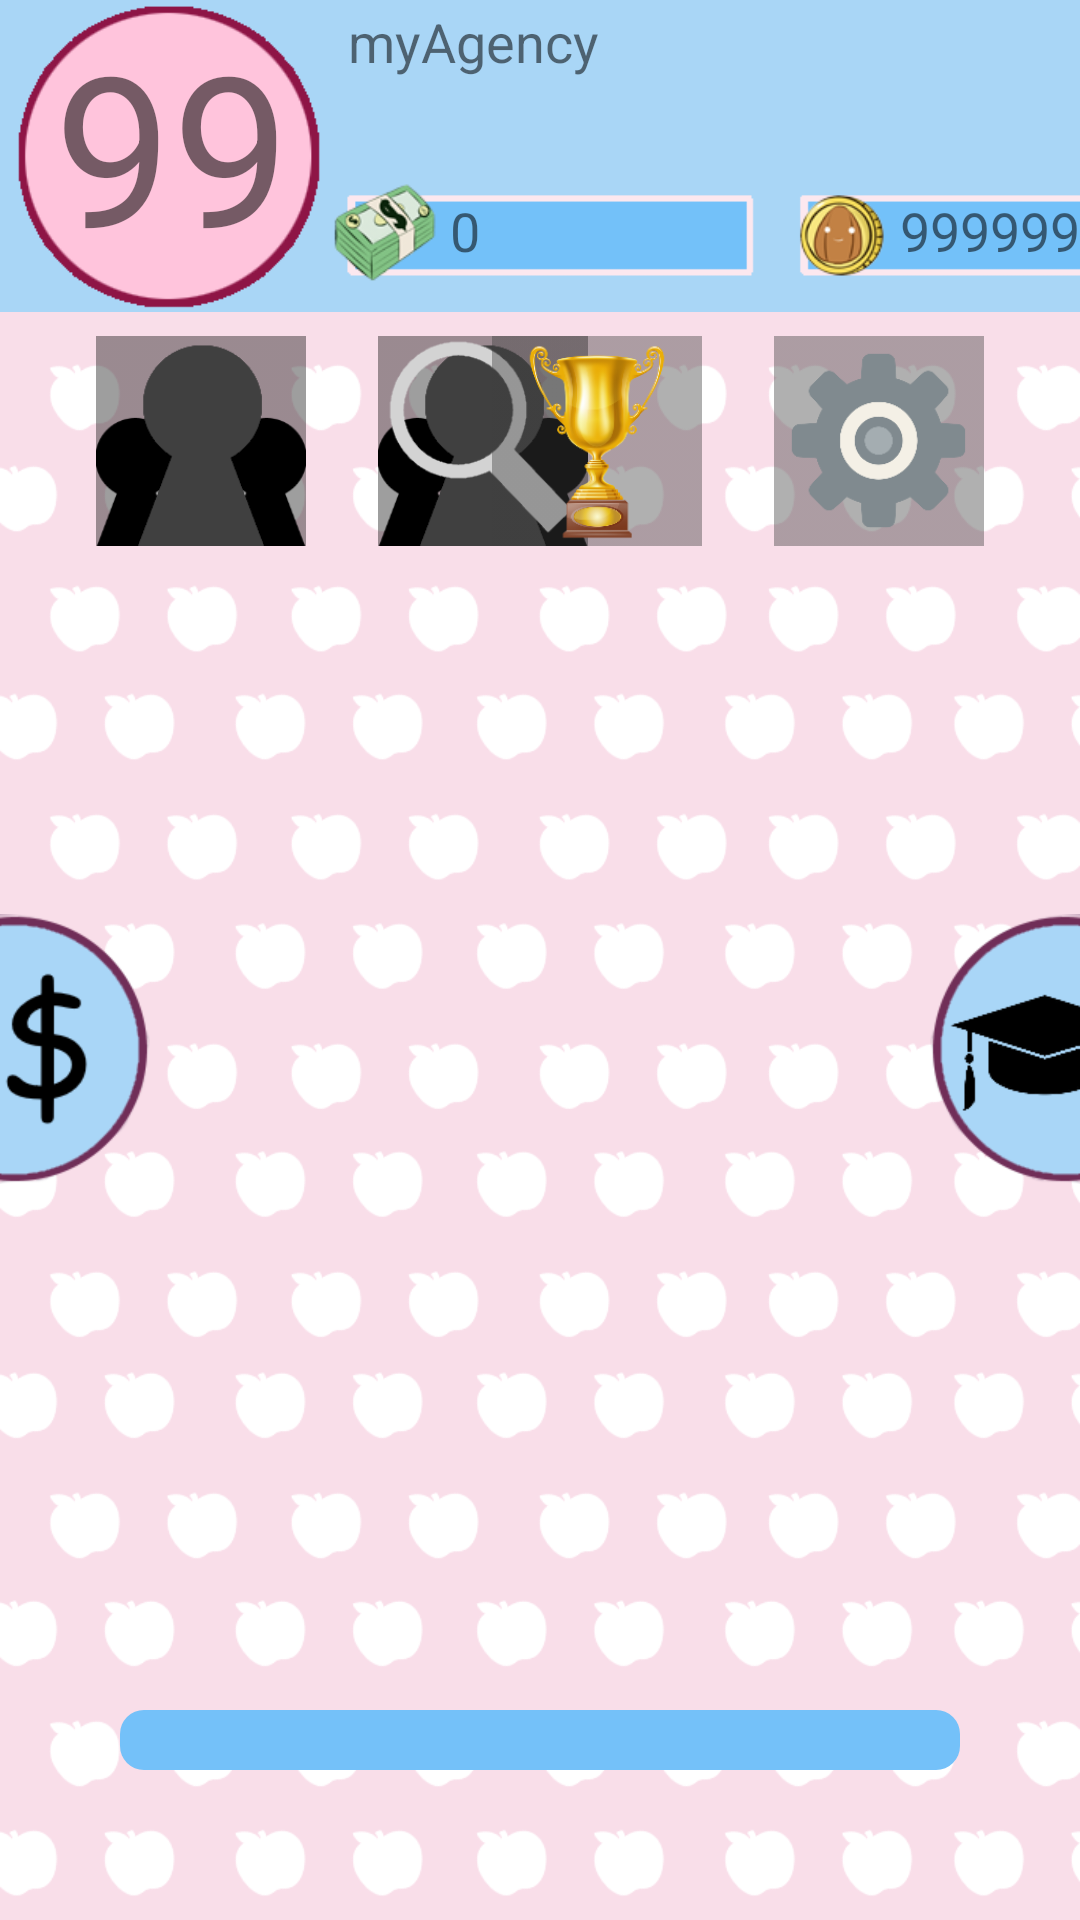

Where icons sit on this 1080w x 1920h app screen, as (x1, y1, x2, y2):
Achievements: (492, 336, 702, 546)
Idol Management: (96, 336, 306, 546)
Recruitment: (378, 336, 588, 546)
Settings: (774, 336, 984, 546)
